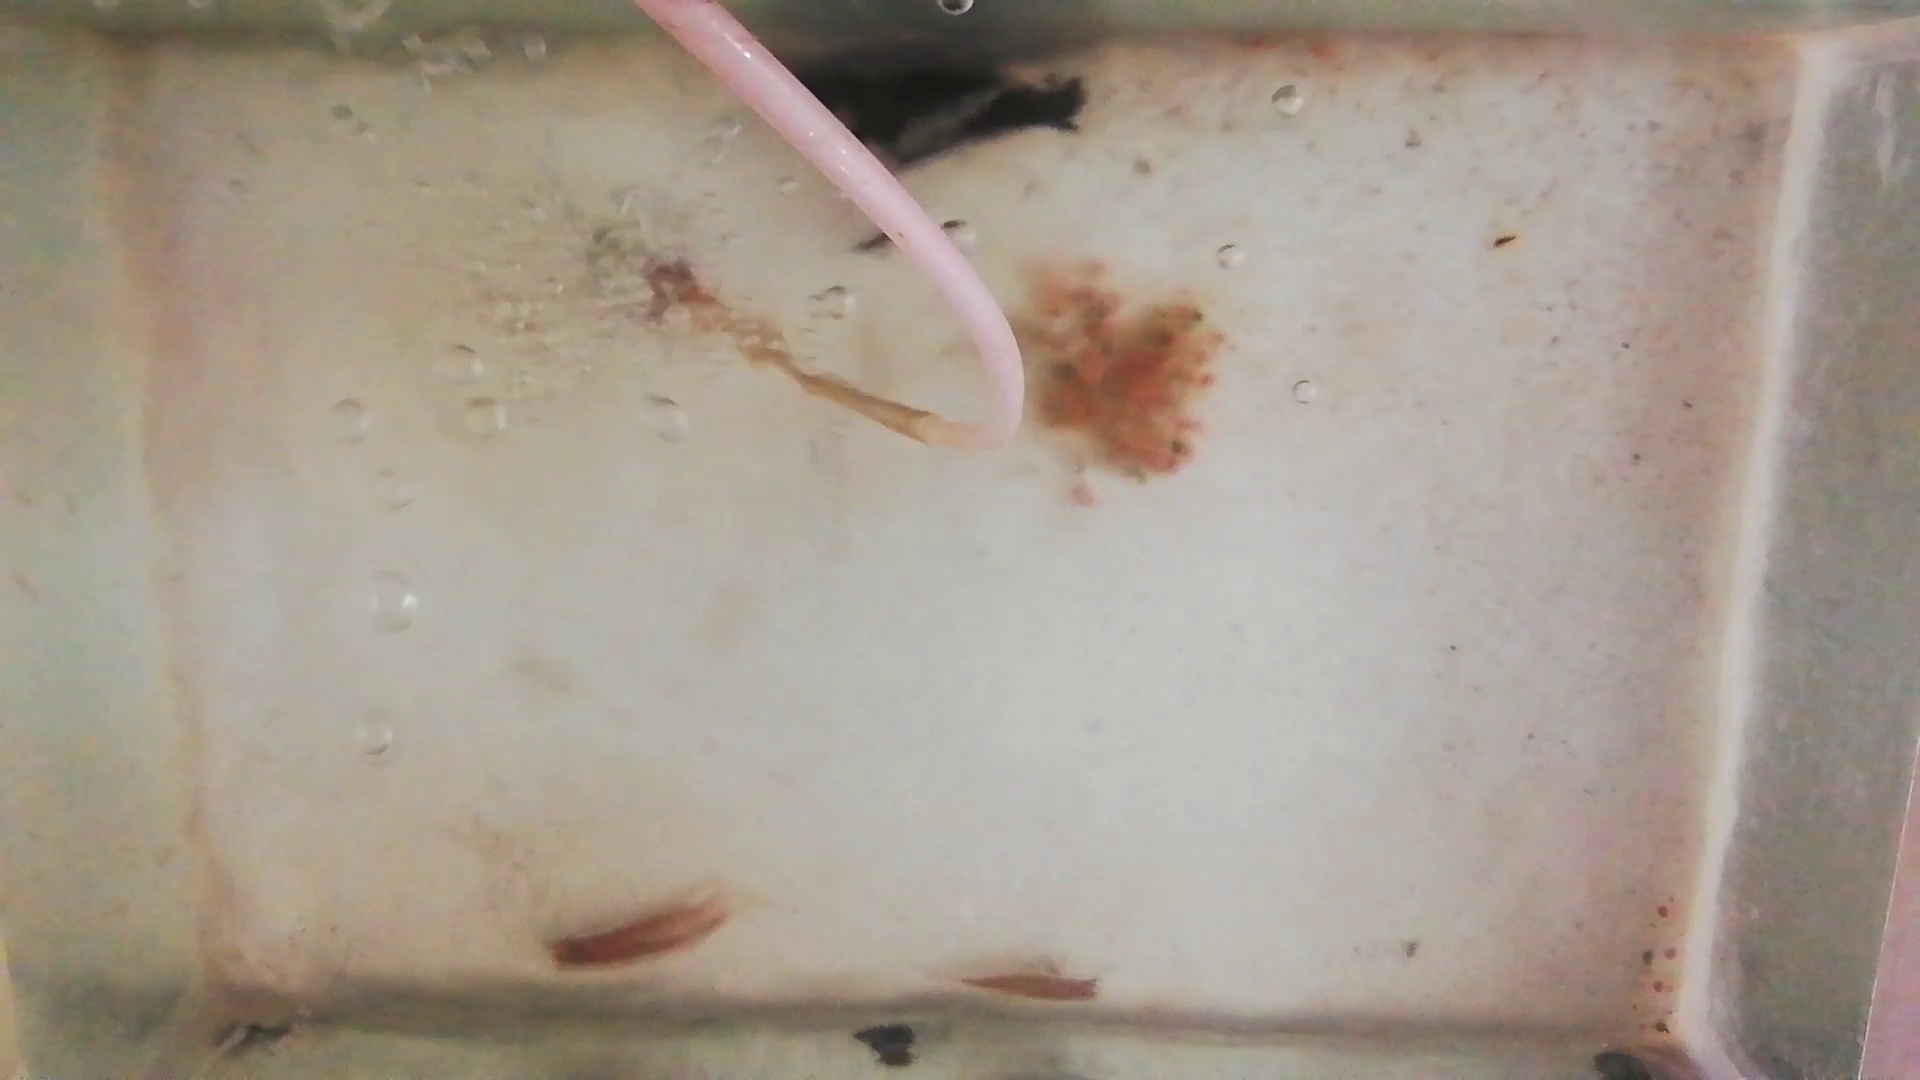fish: (549, 887, 731, 971), (957, 965, 1108, 1004)
